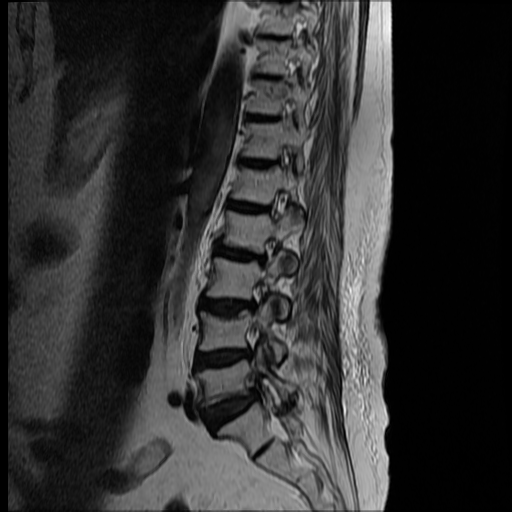LFS0: (261, 183, 298, 227)
LFS1: (249, 231, 284, 275)
